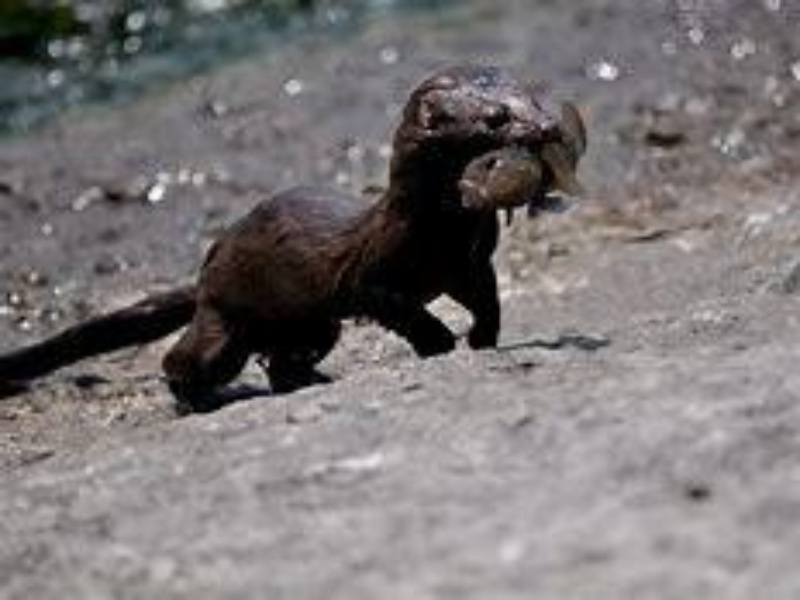minkish: (1, 56, 557, 420)
